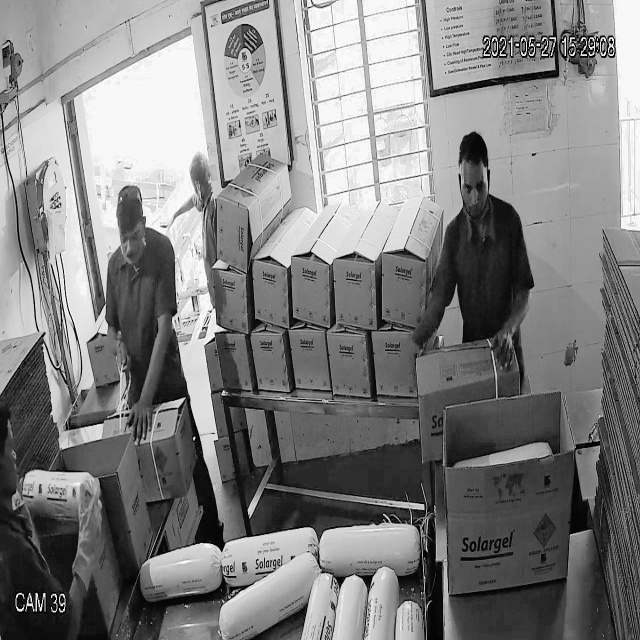Sin_gafas: (113, 219, 149, 252), (458, 167, 492, 201)
